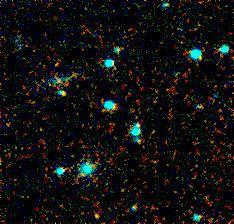star: (80, 203, 110, 224)
